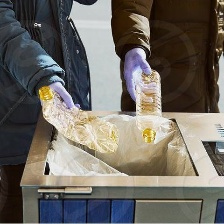bottle: (33, 75, 122, 154), (131, 65, 166, 145)
